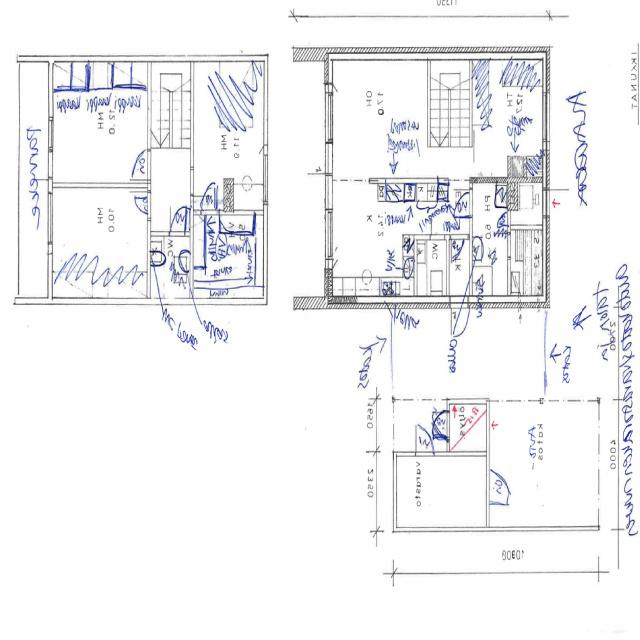door: (307, 144, 333, 173), (451, 296, 468, 339), (416, 423, 434, 457), (486, 473, 507, 502), (32, 151, 52, 179), (452, 234, 468, 268), (131, 152, 150, 180), (191, 169, 210, 196), (131, 192, 150, 219), (432, 413, 450, 438), (170, 207, 185, 237), (455, 193, 472, 217), (431, 211, 445, 240), (205, 187, 219, 215), (499, 211, 511, 225)
